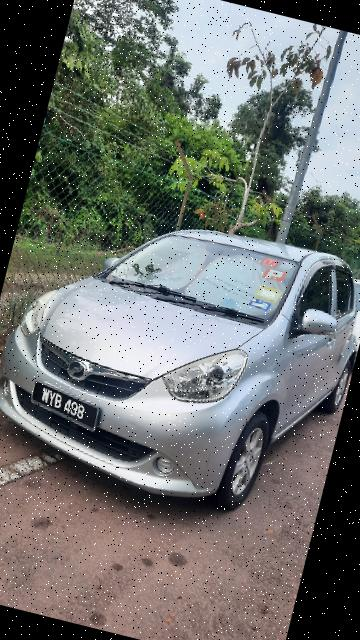License_Plate: (27, 378, 107, 437)
car: (1, 181, 360, 541)
